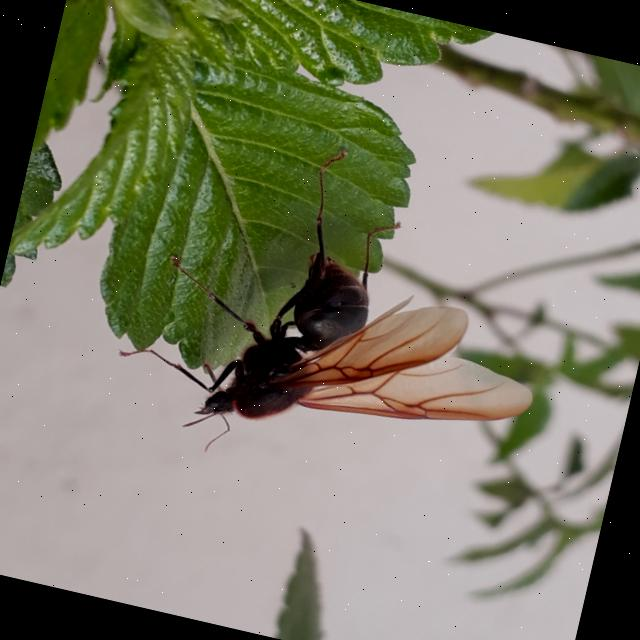Alive-Male-Alate: (102, 110, 578, 522)
